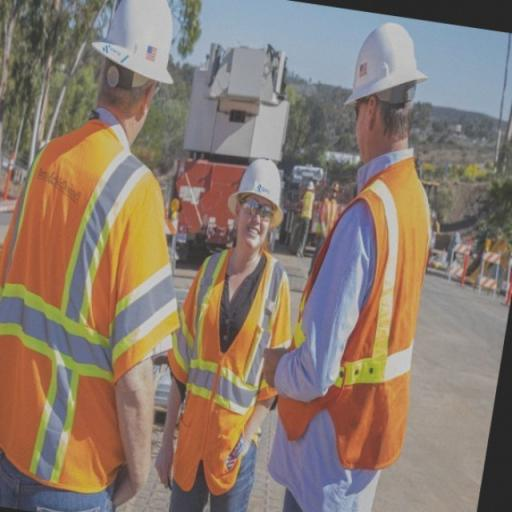Person: (3, 3, 177, 511), (295, 32, 444, 510), (172, 144, 306, 509)
goggles: (233, 194, 280, 228)
helmet: (328, 21, 431, 108), (88, 2, 184, 88), (234, 154, 286, 208)
vest: (3, 110, 169, 491), (289, 161, 438, 483), (186, 249, 292, 487)
